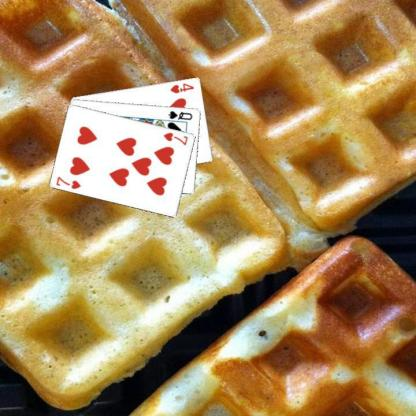4H: (168, 80, 195, 94)
7H: (54, 173, 82, 190), (161, 130, 190, 146)
QS: (166, 108, 193, 121)
